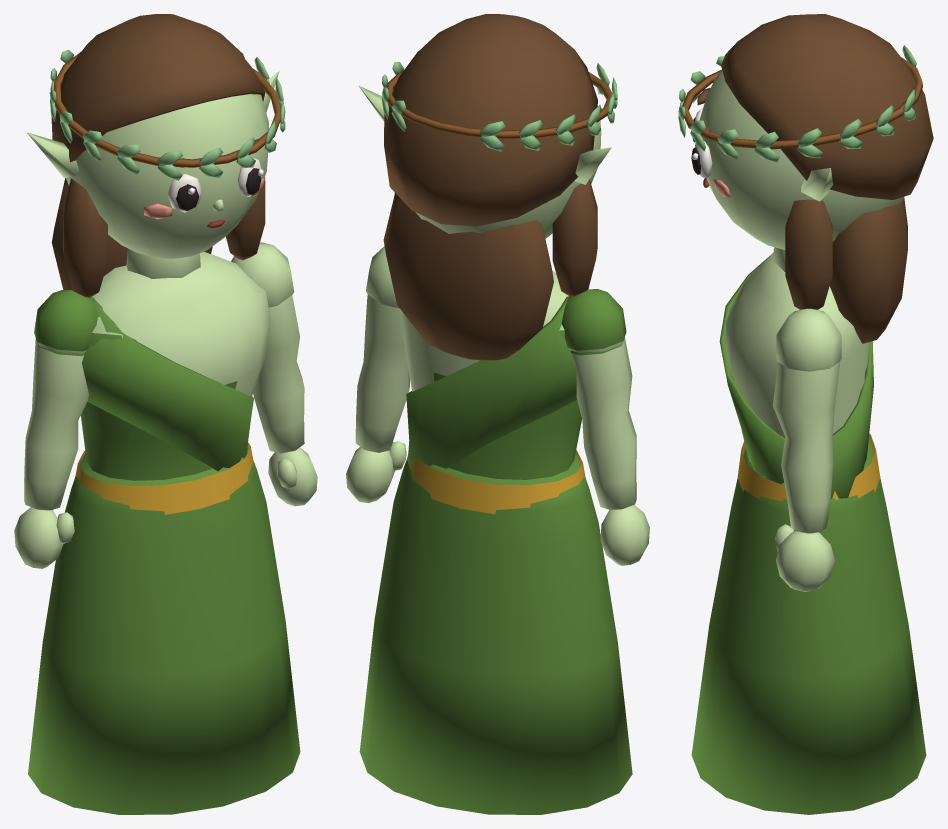
File: dryade.glb
The picture shows the model from 3 angles, left to right: view 1: azimuth 30°, elevation 25°; view 2: azimuth 150°, elevation 25°; view 3: azimuth 270°, elevation 25°; orthographic projection.
Visible parts, largest first — view 1: huefte, rumpf, haare, kopf, armL, armR, kopfschmuck, augeL, augeR; view 2: huefte, haare, rumpf, armL, armR, kopfschmuck, kopf; view 3: huefte, haare, rumpf, armR, kopf, kopfschmuck, augeR.
Boxes of the visible parts, box(x1,y1,x2,y2) form: huefte: box(28, 445, 300, 814); rumpf: box(75, 251, 270, 514); haare: box(51, 14, 265, 297); kopf: box(27, 71, 279, 278); armL: box(14, 290, 97, 568); armR: box(231, 242, 317, 506); kopfschmuck: box(49, 49, 285, 180); augeL: box(167, 174, 202, 212); augeR: box(237, 158, 263, 196); huefte: box(359, 453, 632, 814); haare: box(383, 14, 597, 360); rumpf: box(402, 270, 585, 514); armL: box(561, 289, 649, 565); armR: box(346, 246, 409, 503); kopfschmuck: box(381, 51, 617, 151); kopf: box(359, 86, 611, 238); huefte: box(691, 438, 926, 814); haare: box(721, 14, 933, 343); rumpf: box(719, 252, 880, 501); armR: box(773, 308, 841, 591); kopf: box(699, 69, 903, 271); kopfschmuck: box(678, 45, 922, 162); augeR: box(691, 141, 712, 178).
Bounding box in the file's own units: 0.9329 × 2.28 × 0.7069.
